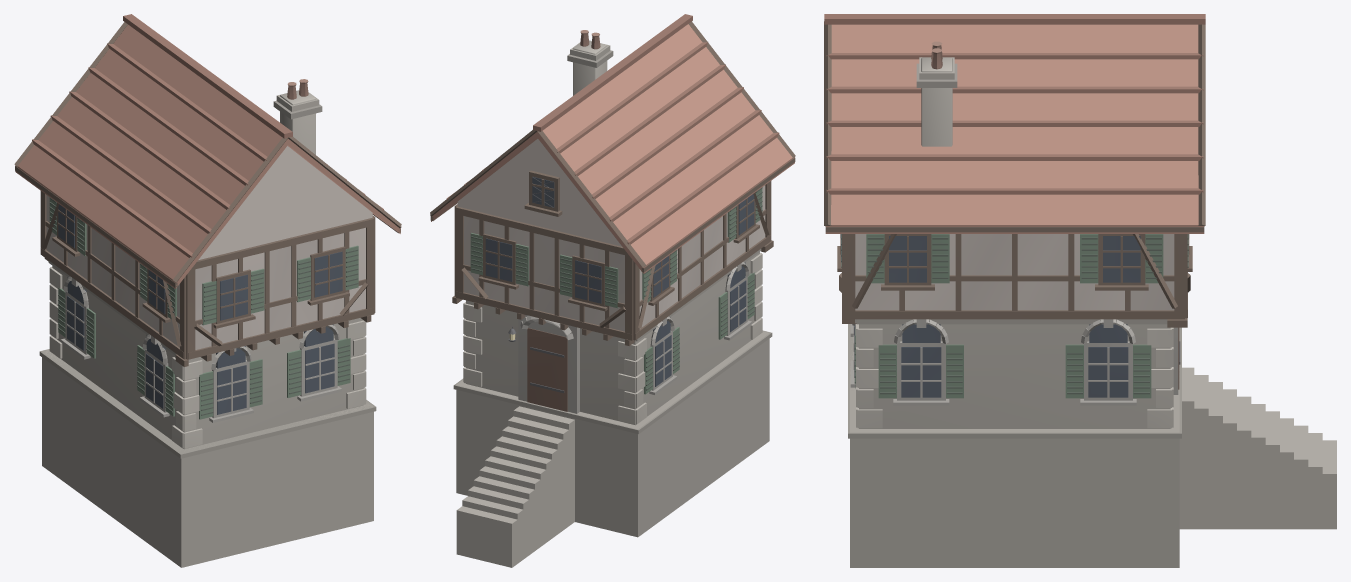
Rendered from house_2_3.gltf.
3 views of the same model, side by side, from view 1: azimuth 30°, elevation 25°; view 2: azimuth 150°, elevation 25°; view 3: azimuth 270°, elevation 25° (orthographic). The views are drawn at different scales.
Parts seen in each view (by area): view 1: Body; view 2: Body; view 3: Body.
Boxes of the visible parts, left/top/right/bottom form: Body: left=14, top=14, right=401, bottom=567; Body: left=430, top=14, right=795, bottom=567; Body: left=824, top=14, right=1336, bottom=567.
Size of the model in its own units: 7.02 by 12.34 by 11.51.
